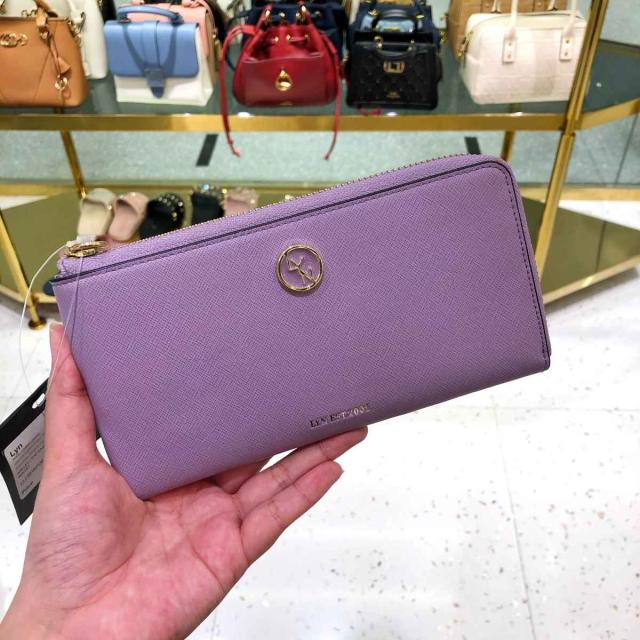Handbag: (43, 150, 560, 500)
